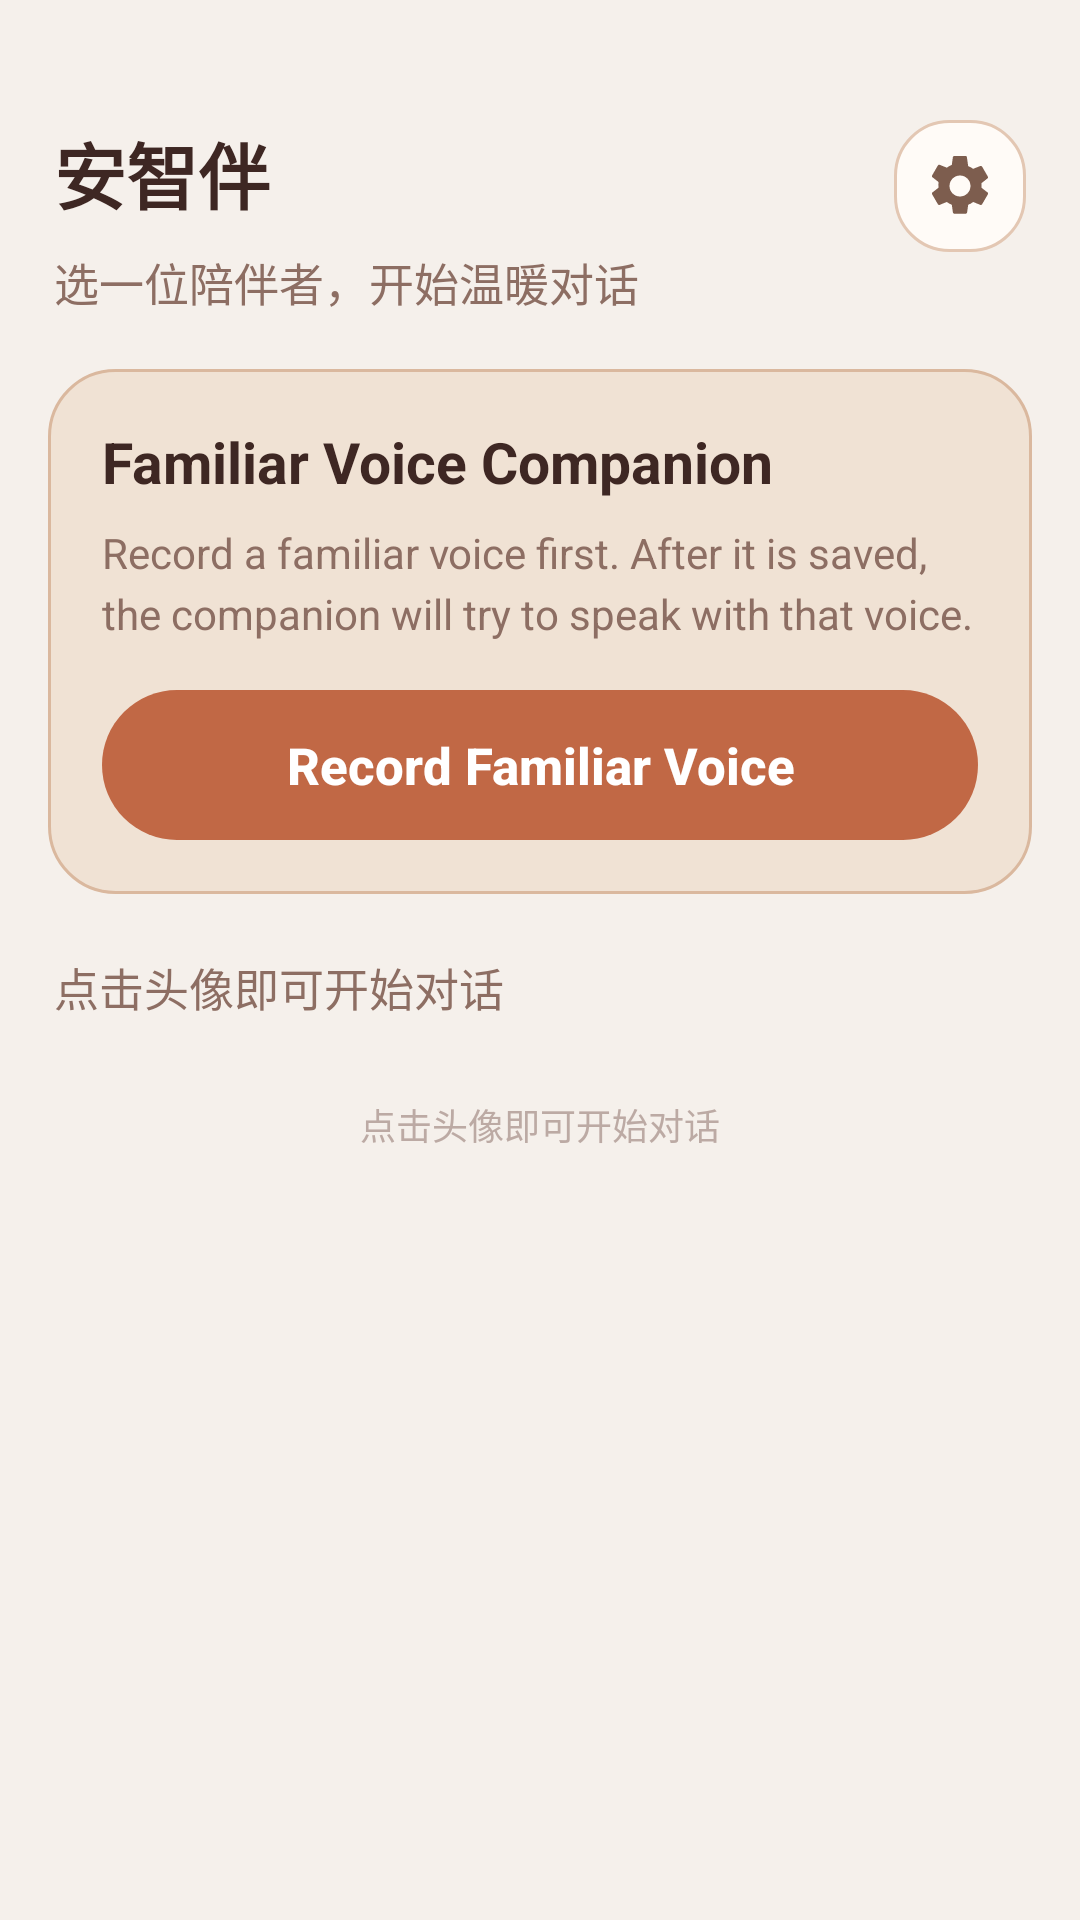

Screen size 1080*1920. Icon name, then its center in pixels as point (x, y):
Open settings: point (960, 186)
